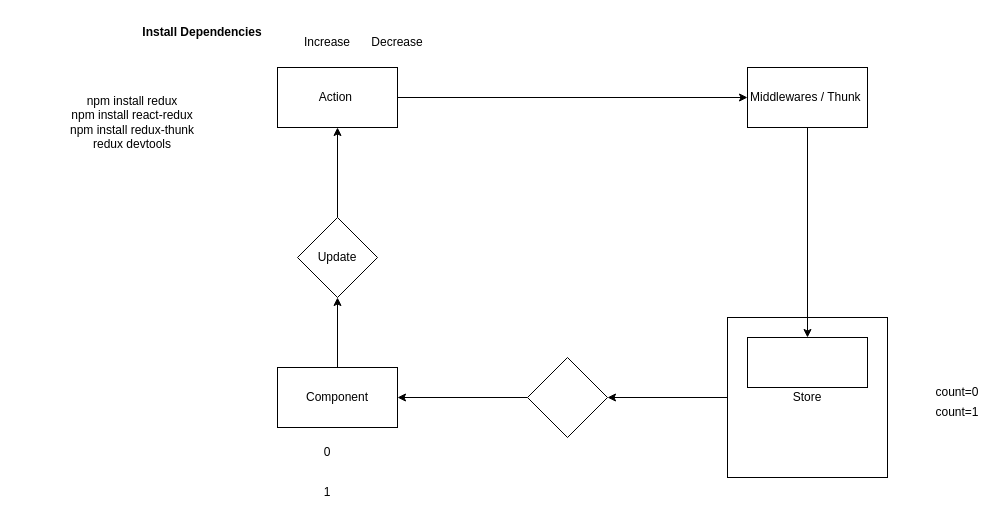
Some shapes in this 1004 by 524 pixel diagram are drawn without their labels. The box of each missing label's shape, as (x1, y1, x2, y2) in pixels:
Provider: (526, 356, 608, 438)
Reducer: (746, 336, 868, 388)
